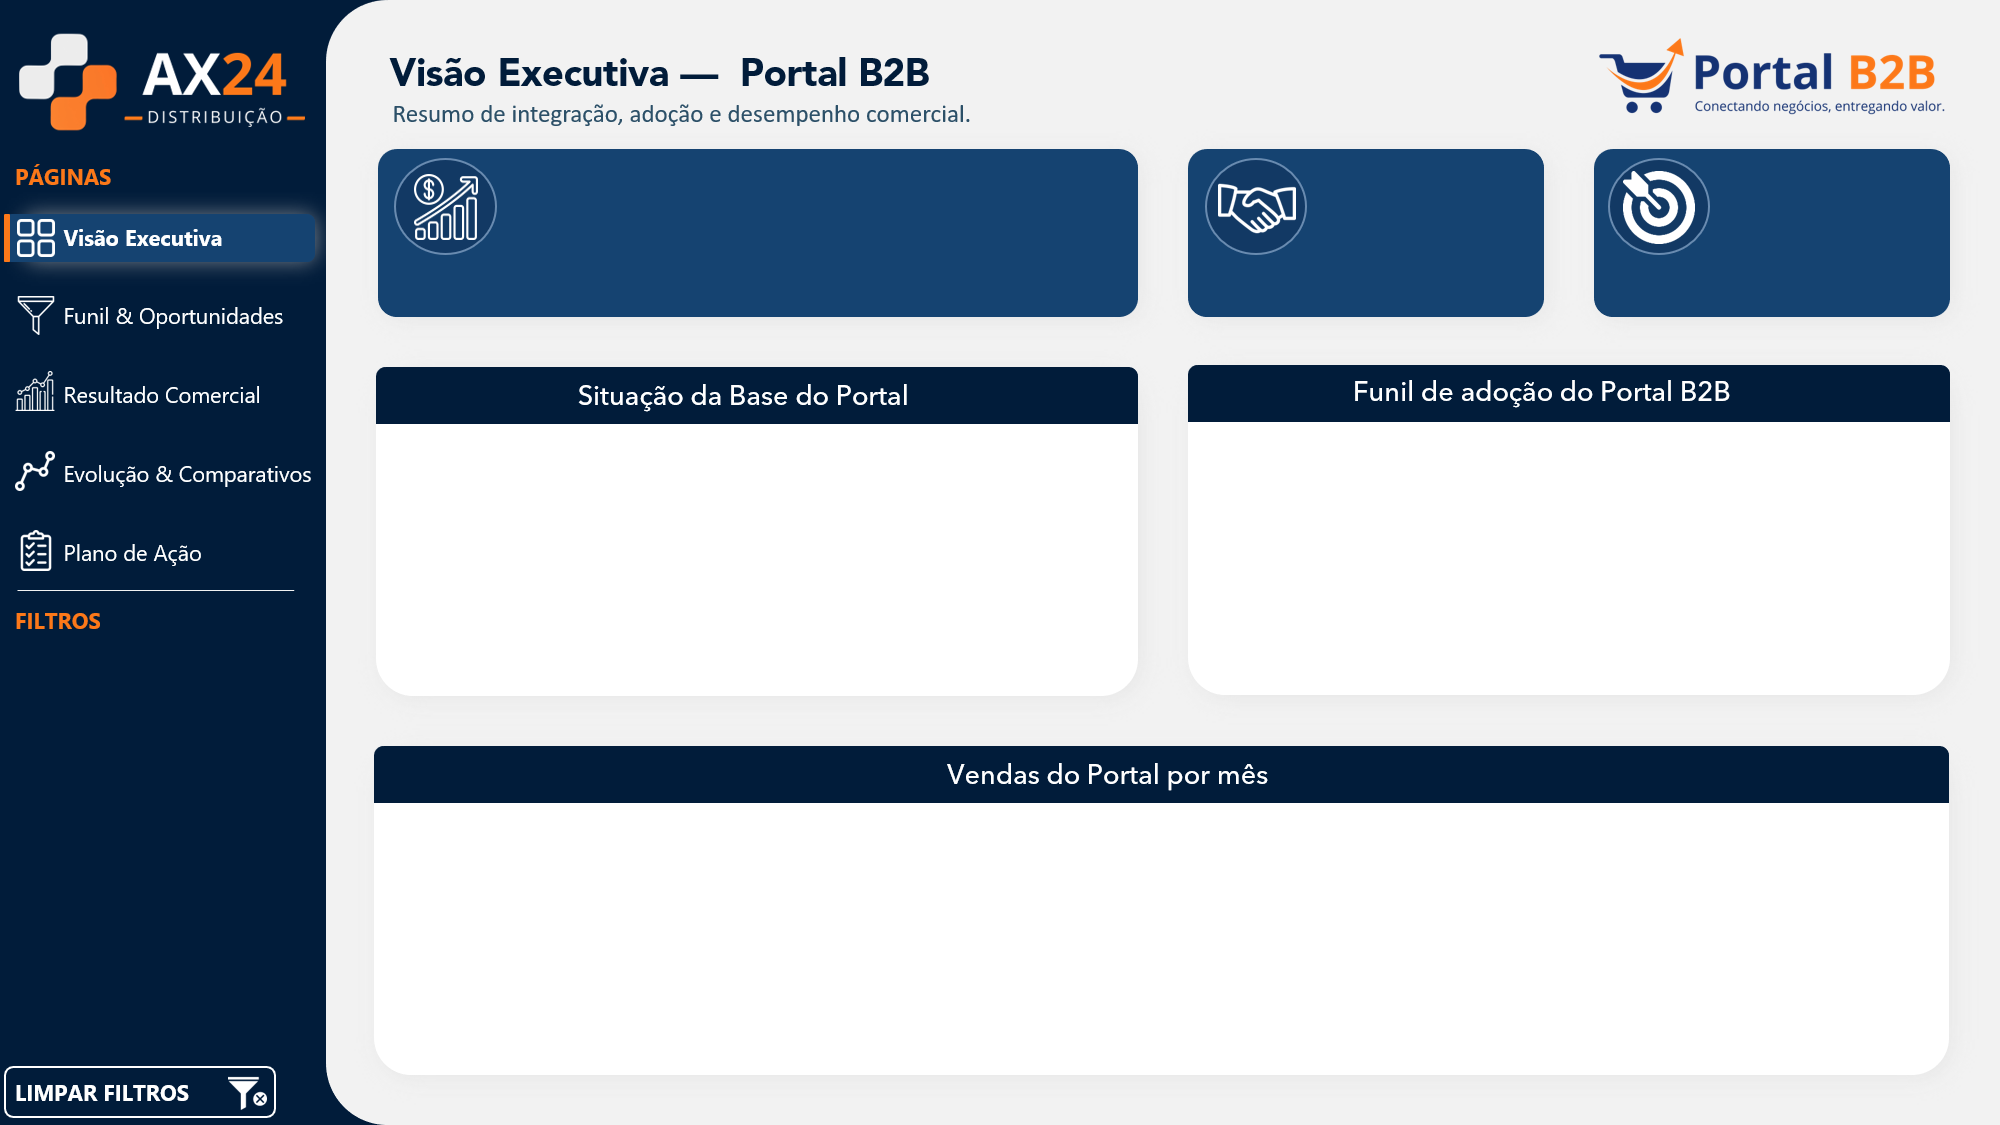

The dashboard page shown, as its layout file describes it:
{"tool":"powerbi","page":{"name":"Visão Executiva","canvas":[1280,720],"ordinal":1},"visuals":[{"type":"cardVisual","fields":{"Data":["Medidas.% Clientes Integrados Portal"]},"box":[761.5,96.9,243.8,109.2],"z":0},{"type":"cardVisual","fields":{"Data":["Medidas.Qtd Oportunidades"]},"box":[1023.8,96.9,243.8,109.2],"z":1000},{"type":"funnel","fields":{"Y":["Medidas.Qtd Registros Portal","Medidas.Qtd Clientes com Cadastro Interno","Medidas.Qtd Clientes Integrados Portal","Medidas.Qtd Integrados com Compra Portal"]},"box":[761.8,271.2,482.1,171.4],"z":2000},{"type":"barChart","fields":{"Category":["f_OportunidadesPortal.Status PORTALB2B"],"Y":["Medidas.Qtd Registros Portal"]},"box":[237.7,262.7,489.9,179.9],"z":3000},{"type":"clusteredColumnChart","fields":{"Category":["d_Calendario.Mes Ano"],"Y":["Medidas.Valor Venda Portal B2B"]},"box":[237.6,511.7,1006.6,175],"z":4000},{"type":"cardVisual","fields":{"Data":["Medidas.Valor Venda Geral","Medidas.Valor Venda Portal B2B"]},"box":[321.8,74.7,419.4,108.8],"z":5000},{"type":"barChart","fields":{"Y":["Medidas.% Venda Portal B2B","Medidas.% Venda Fora Portal B2B"]},"box":[348.8,141.2,373.5,46.5],"z":6000},{"type":"textbox","box":[348.2,172.4,292.9,36.5],"z":7000},{"type":"slicer","title":"Estabelecimento","fields":{"Values":["d_Estabelecimento.Estabelecimento"]},"box":[0,410,209.3,56.4],"z":8000},{"type":"slicer","title":"Periodo","fields":{"Values":["d_Calendario.Date"]},"box":[0,471.4,209.3,90],"z":9000},{"type":"actionButton","box":[0,679.3,176.4,34.3],"z":10000}]}

Visuals, with their boxes on the page's 1280x720 design canvas (x1, y1, x2, y2). These are canvas units, not pixel positions in the 2000x1125 screenshot, which may show the page scaled, cropped or inside an application window:
cardVisual - Medidas.% Clientes Integrados Portal: 762 97 1005 206
cardVisual - Medidas.Qtd Oportunidades: 1024 97 1268 206
funnel - Medidas.Qtd Registros Portal x Medidas.Qtd Clientes com Cadastro Interno: 762 271 1244 443
barChart - f_OportunidadesPortal.Status PORTALB2B x Medidas.Qtd Registros Portal: 238 263 728 443
clusteredColumnChart - d_Calendario.Mes Ano x Medidas.Valor Venda Portal B2B: 238 512 1244 687
cardVisual - Medidas.Valor Venda Geral x Medidas.Valor Venda Portal B2B: 322 75 741 184
barChart - Medidas.% Venda Portal B2B x Medidas.% Venda Fora Portal B2B: 349 141 722 188
textbox: 348 172 641 209
"Estabelecimento" slicer: 0 410 209 466
"Periodo" slicer: 0 471 209 561
actionButton: 0 679 176 714
